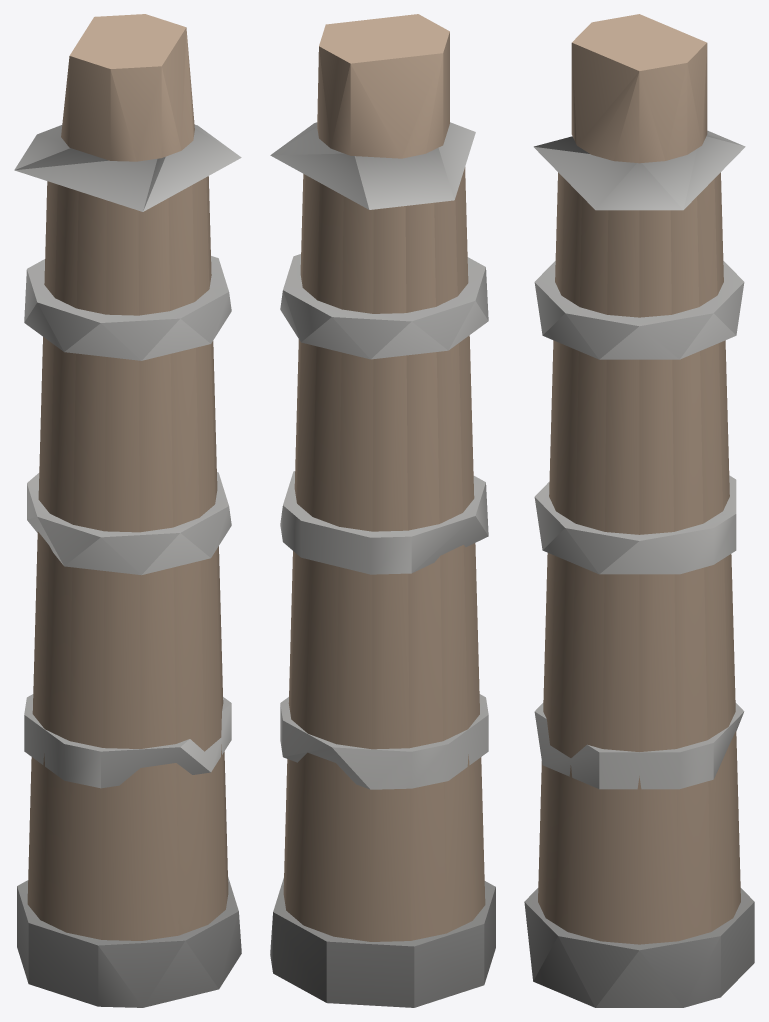
File: steam.lod1.glb
3 views of the same model, side by side, from view 1: azimuth 30°, elevation 25°; view 2: azimuth 150°, elevation 25°; view 3: azimuth 270°, elevation 25° (orthographic).
Size of the model in its own units: 0.68 by 3 by 0.68.
